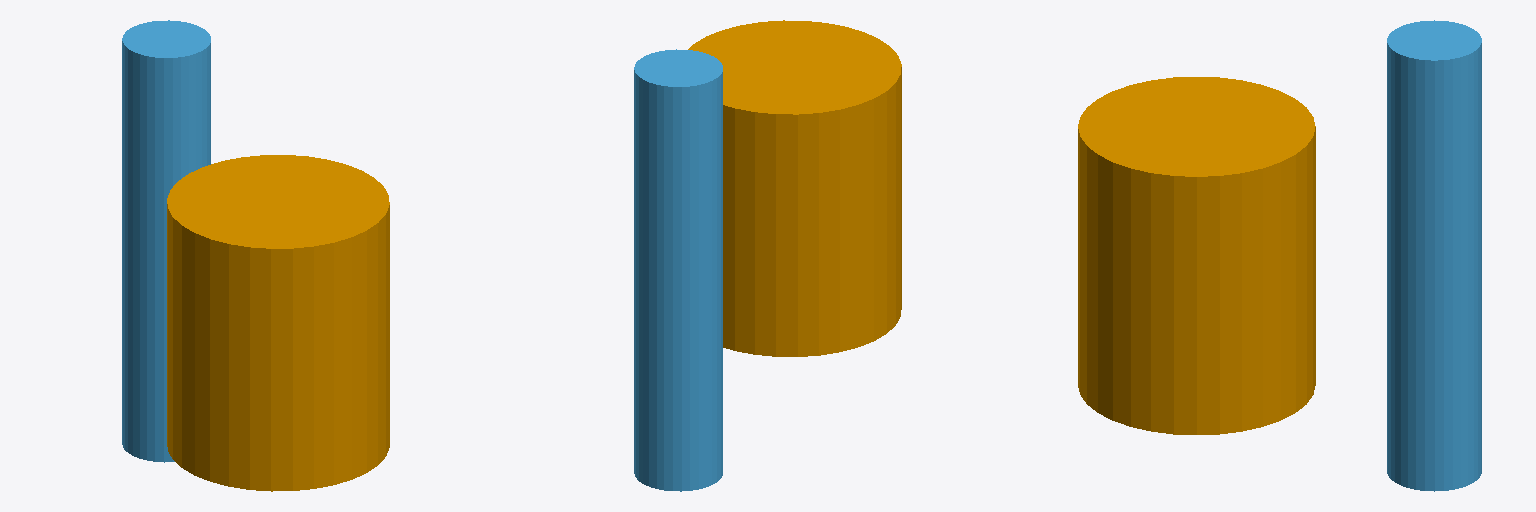
URDF robot description (myfirst):
<?xml version="1.0"?>
<robot name="myfirst">
  <!-- Base link definition -->
  <link name="base_link">
    <inertial>
      <mass value="0.25"/>
      <inertia ixx="0.0003" iyy="0.0003" izz="0.0003" ixy="0" ixz="0" iyz="0"/>
    </inertial>
    <visual>
      <geometry>
        <cylinder length="0.6" radius="0.25"/>
      </geometry>
    </visual>
    <collision>
      <geometry>
        <cylinder length="0.6" radius="0.25"/>
      </geometry>
    </collision>
  </link>

  <!-- Additional link definition -->
  <link name="sub_link">
    <!-- Inertial, visual, and collision elements for the sub_link -->
    <inertial>
      <mass value="0.1"/>
      <inertia ixx="0.0001" iyy="0.0001" izz="0.0001" ixy="0" ixz="0" iyz="0"/>
    </inertial>
    <!-- Define visual and collision properties for sub_link as needed -->
    <visual>
      <geometry>
        <cylinder length="1" radius="0.1"/>
      </geometry>
    </visual>
    <collision>
      <geometry>
        <cylinder length="0.6" radius="0.25"/>
      </geometry>
    </collision>
  </link>

  <!-- Joint connecting base_link to sub_link -->
  <joint name="base_to_sub" type="fixed">
    <parent link="base_link"/>
    <child link="sub_link"/>
    <origin xyz="0 0.5 0" rpy="0 0 0"/> <!-- Adjust the xyz values as needed -->
    <axis xyz="1 0 0"/>
    <limit effort="10" upper="0" lower="10" velocity="10"/>
  </joint>
</robot>

--- What the picture shows (computed from the rendered views, not written in the file) ---
Views: 3 orthographic renders of the robot side by side, from view 1: azimuth 30°, elevation 25°; view 2: azimuth 150°, elevation 25°; view 3: azimuth 270°, elevation 25°.
Model myfirst with 2 links and 1 joints (1 fixed), rooted at base_link, posed all joints at 0.
Visible links, largest first — view 1: base_link, sub_link; view 2: base_link, sub_link; view 3: base_link, sub_link.
Link boxes in pixels (box(x1,y1,x2,y2)): base_link: box(167, 155, 389, 491); sub_link: box(122, 20, 210, 462); base_link: box(688, 20, 901, 356); sub_link: box(634, 49, 722, 491); base_link: box(1078, 77, 1315, 434); sub_link: box(1387, 20, 1481, 491).
Size in the robot's own frame: 0.5 by 0.85 by 1 metres.
Geometry: primitives only (box / cylinder / sphere), no mesh files.
